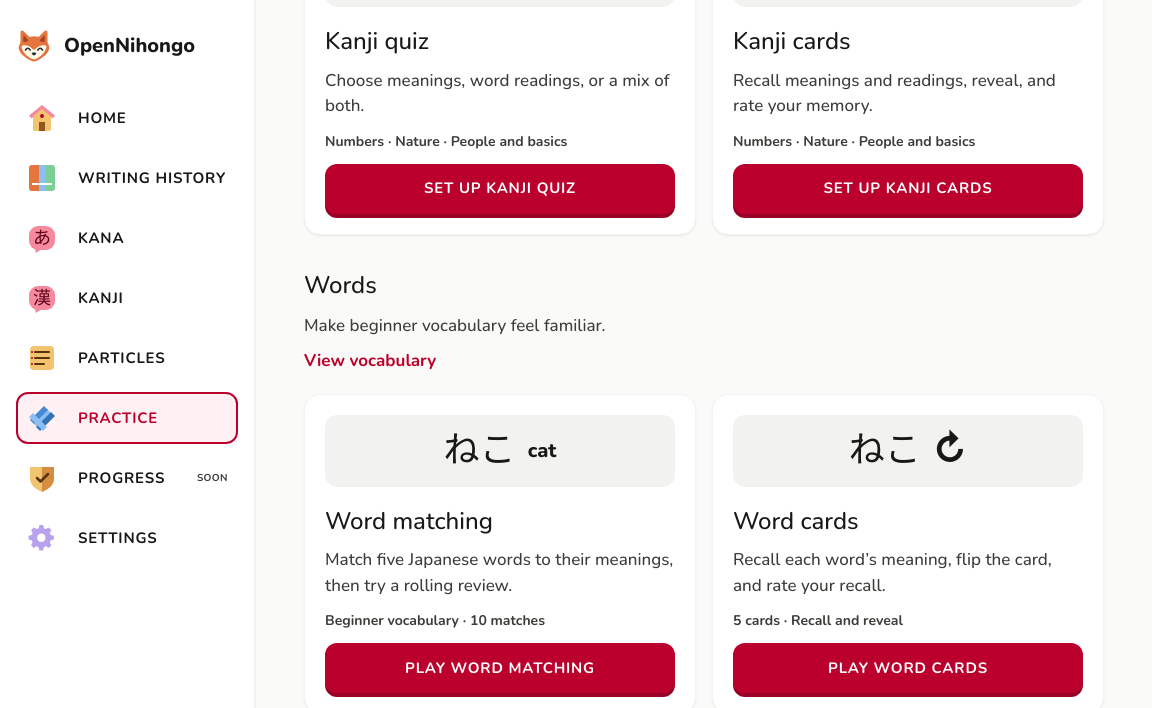
keeps vocabulary browsing within Practice and preserves the hub choices
(page scrolled)
Expected: the link "Home" is shown, [26,102,126,134]
Click the link "View vocabulary" at (370, 361), box [304,349,436,372]
(page scrolled)
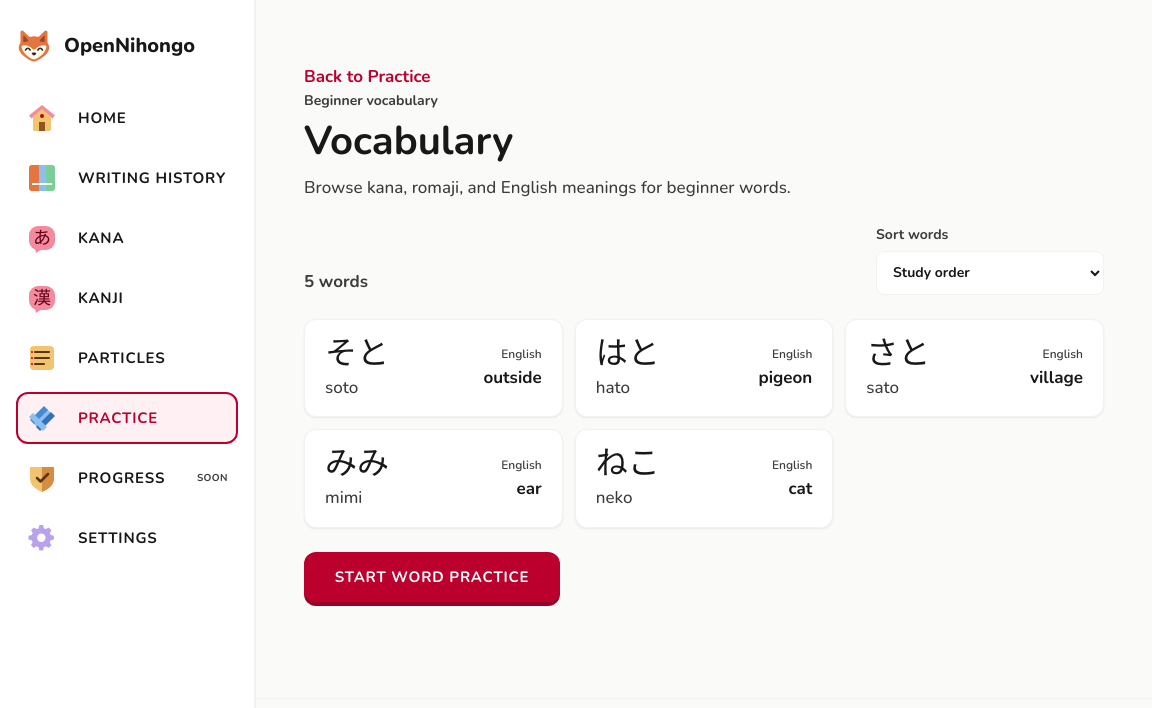
Expected: the heading "Vocabulary" is shown, [304,114,513,168]
Now the text "5 words" is shown, box [304,269,368,295]
Click the link "Back to Practice" at (367, 76), box [304,65,431,88]
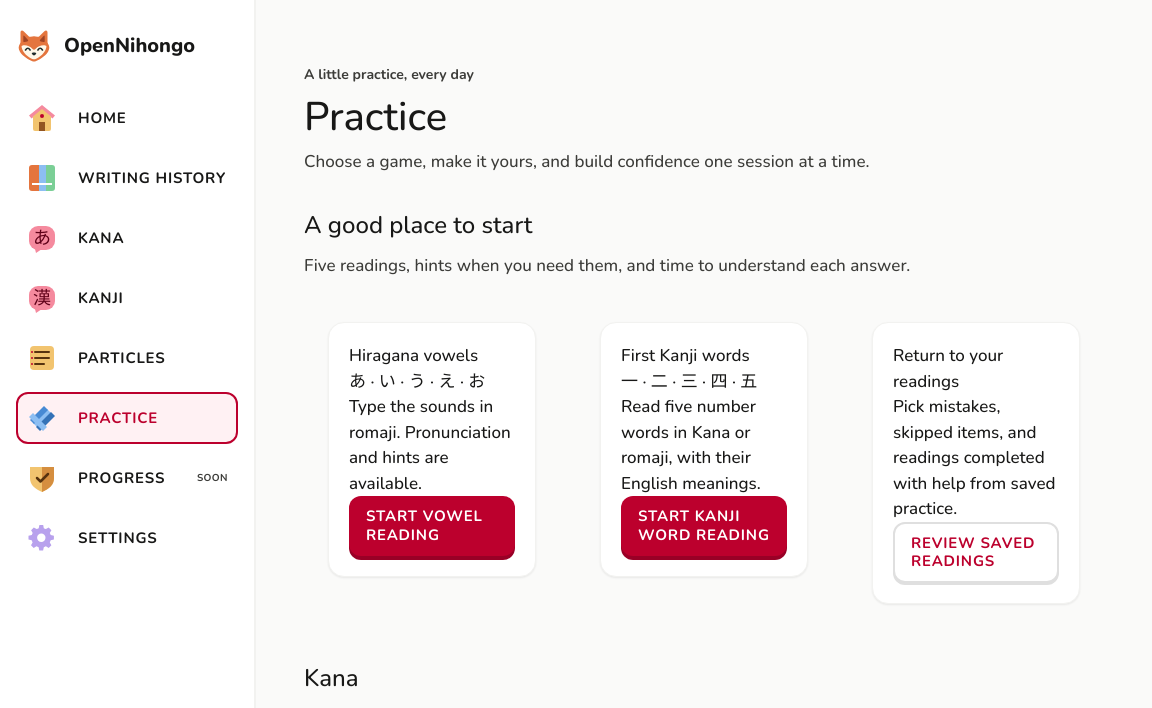
Now the heading "Practice" is shown, box [304,90,447,144]
